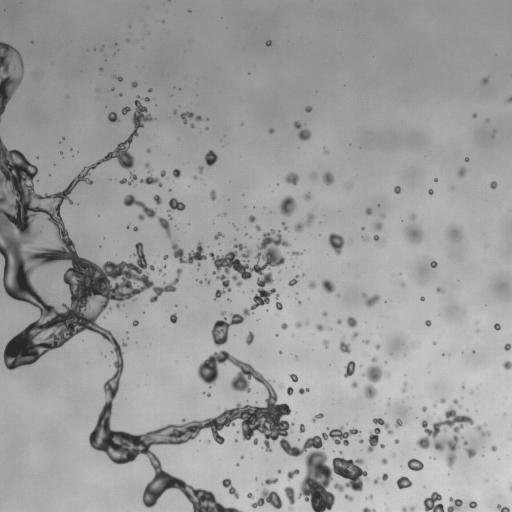droplet: (208, 231, 289, 346), (416, 406, 473, 467), (367, 418, 393, 452), (172, 242, 206, 267), (251, 487, 282, 509), (140, 163, 162, 186), (328, 233, 344, 255), (405, 225, 422, 243), (280, 196, 296, 215), (158, 216, 171, 237), (447, 226, 462, 241), (362, 293, 379, 306), (407, 458, 423, 471), (396, 476, 412, 489), (168, 198, 185, 210), (321, 279, 335, 292), (205, 150, 217, 165), (344, 361, 355, 377), (285, 172, 298, 184), (339, 341, 350, 353), (287, 469, 299, 480), (323, 172, 333, 185), (346, 316, 357, 327), (465, 448, 476, 458), (108, 112, 118, 122), (246, 332, 254, 344), (154, 195, 162, 204), (374, 222, 382, 231), (289, 374, 298, 382), (458, 167, 465, 177), (170, 313, 177, 323), (173, 169, 181, 177), (503, 361, 511, 369), (395, 419, 403, 427), (121, 107, 130, 114), (214, 232, 223, 239), (275, 301, 282, 310), (344, 494, 353, 501), (298, 388, 308, 394), (286, 387, 293, 395), (469, 501, 477, 508), (210, 190, 215, 200), (490, 181, 497, 188), (308, 281, 315, 288), (316, 324, 323, 331), (304, 192, 310, 200), (394, 186, 400, 193), (249, 215, 255, 222), (430, 261, 437, 267), (494, 323, 500, 330), (504, 344, 511, 350), (299, 424, 304, 432), (382, 473, 387, 481), (482, 77, 488, 83), (365, 208, 371, 214), (373, 235, 379, 241), (132, 320, 138, 326), (425, 320, 431, 326), (281, 323, 287, 329), (453, 399, 459, 405), (381, 458, 387, 464), (323, 340, 328, 347), (247, 493, 254, 498), (292, 251, 300, 255), (132, 81, 137, 87), (305, 106, 311, 111), (268, 128, 274, 133), (160, 170, 165, 176), (410, 214, 415, 220), (295, 322, 301, 327), (352, 332, 357, 338), (491, 445, 496, 451), (373, 478, 378, 484), (428, 189, 433, 194), (352, 382, 357, 387), (440, 398, 445, 403), (422, 406, 427, 411), (507, 96, 511, 102), (199, 166, 203, 172), (437, 288, 443, 292), (266, 41, 271, 45), (117, 77, 122, 81), (144, 97, 149, 101), (256, 225, 260, 230), (163, 255, 168, 259), (275, 293, 279, 298), (394, 439, 399, 443), (380, 443, 385, 447), (133, 227, 137, 231), (420, 296, 424, 300), (337, 319, 341, 323), (375, 345, 379, 349), (279, 384, 283, 388), (359, 439, 363, 443), (277, 469, 281, 473), (363, 236, 368, 239), (367, 495, 372, 498), (465, 157, 468, 161), (198, 280, 202, 283), (206, 280, 210, 283), (323, 312, 326, 316), (364, 340, 368, 343), (463, 441, 466, 445), (148, 88, 151, 91), (473, 114, 476, 117), (190, 124, 193, 127), (146, 149, 149, 152), (324, 150, 327, 153), (312, 174, 315, 177), (162, 265, 165, 268), (401, 283, 404, 286), (221, 312, 224, 315), (207, 393, 210, 396), (174, 110, 176, 113), (194, 176, 196, 179), (361, 227, 364, 229), (234, 439, 237, 441), (339, 451, 342, 453), (127, 226, 129, 228), (433, 342, 435, 344), (279, 351, 281, 353), (462, 386, 464, 388), (433, 405, 435, 407), (207, 440, 209, 442), (392, 454, 394, 456), (241, 456, 243, 458), (236, 463, 238, 465)
ligament: (0, 98, 363, 511), (0, 42, 23, 119), (123, 194, 156, 220), (363, 357, 383, 399), (423, 491, 462, 511), (295, 213, 314, 231), (222, 478, 239, 498), (294, 121, 311, 140), (181, 112, 201, 123), (120, 172, 136, 184), (476, 426, 488, 435), (263, 478, 278, 485), (289, 275, 298, 285), (312, 413, 323, 421), (497, 505, 509, 511), (402, 506, 415, 511), (363, 507, 375, 511), (402, 383, 407, 392), (282, 222, 287, 230), (509, 484, 511, 491)
